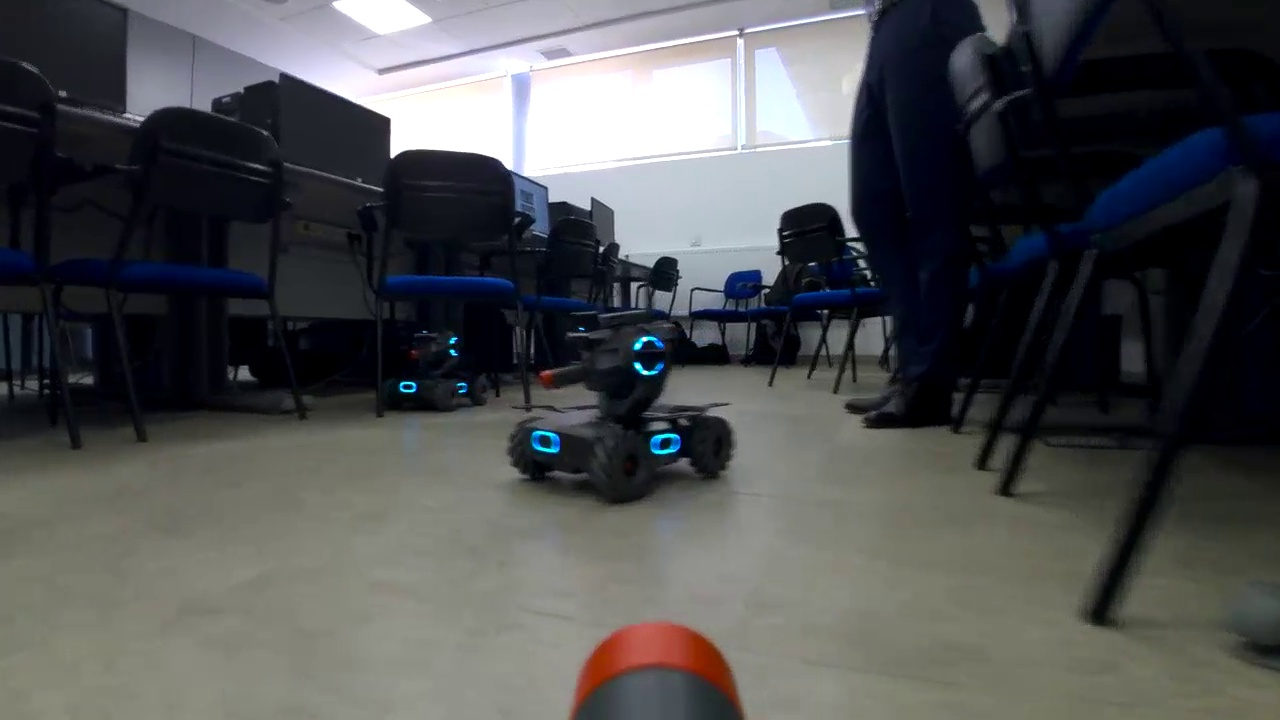robot: (502, 327, 740, 502), (382, 322, 491, 420)
